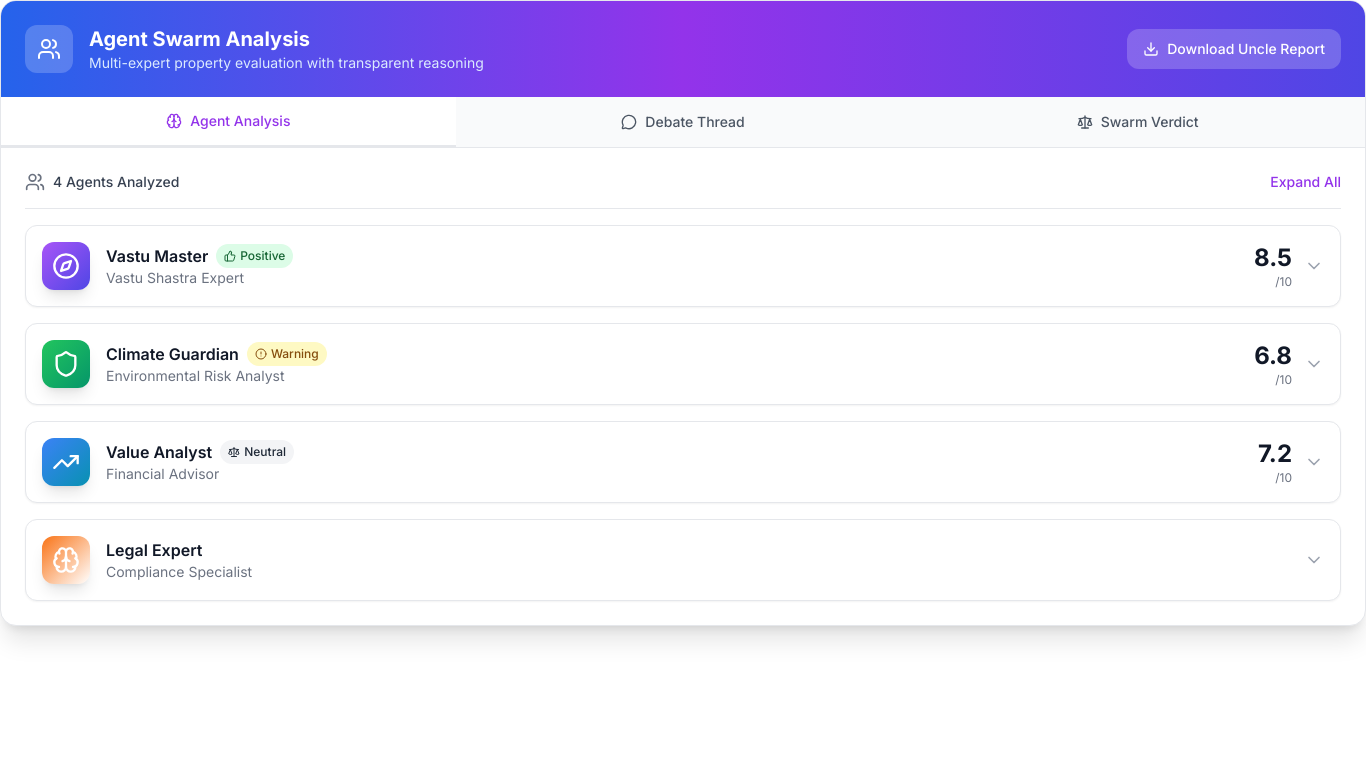
Test: DebatePanel Component › Agent Analysis Tab › should expand All agents when Expand All is clicked
This screenshot has width=1366, height=757.
Click the button "Expand All": (1306, 182) [1270, 172, 1341, 192]
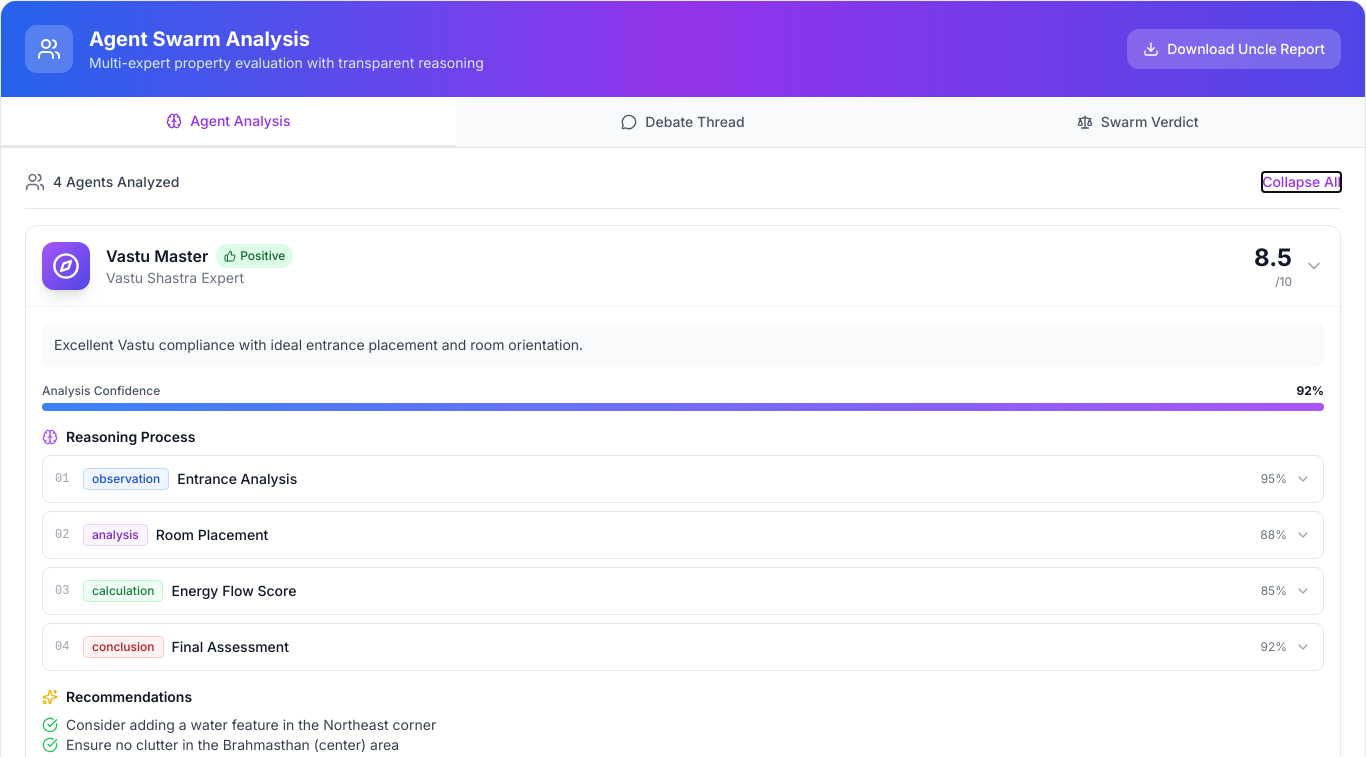
Expected: the button "Collapse All" is shown, [1262, 172, 1341, 192]
